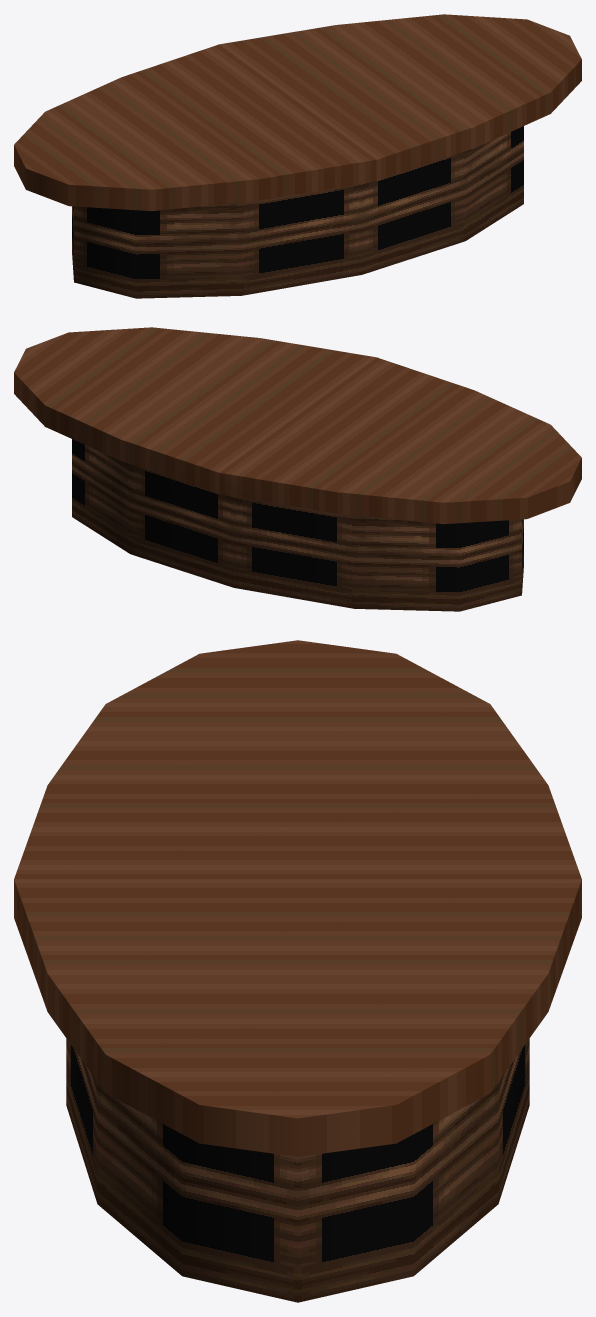
3 renders of one model, top to bottom at view 1: azimuth 30°, elevation 25°; view 2: azimuth 150°, elevation 25°; view 3: azimuth 270°, elevation 25°, orthographic. The views are drawn at different scales.
Parts seen in each view (by area): view 1: 3909kg3_gs11; view 2: 3909kg3_gs11; view 3: 3909kg3_gs11.
Boxes of the visible parts, x1,y1,x2,y2 form: 3909kg3_gs11: (14, 14, 581, 298); 3909kg3_gs11: (14, 327, 581, 611); 3909kg3_gs11: (14, 640, 581, 1302).
Size of the model in its own units: 1.99 by 0.4399 by 1.
Materials: 2 (2 with a texture image).
